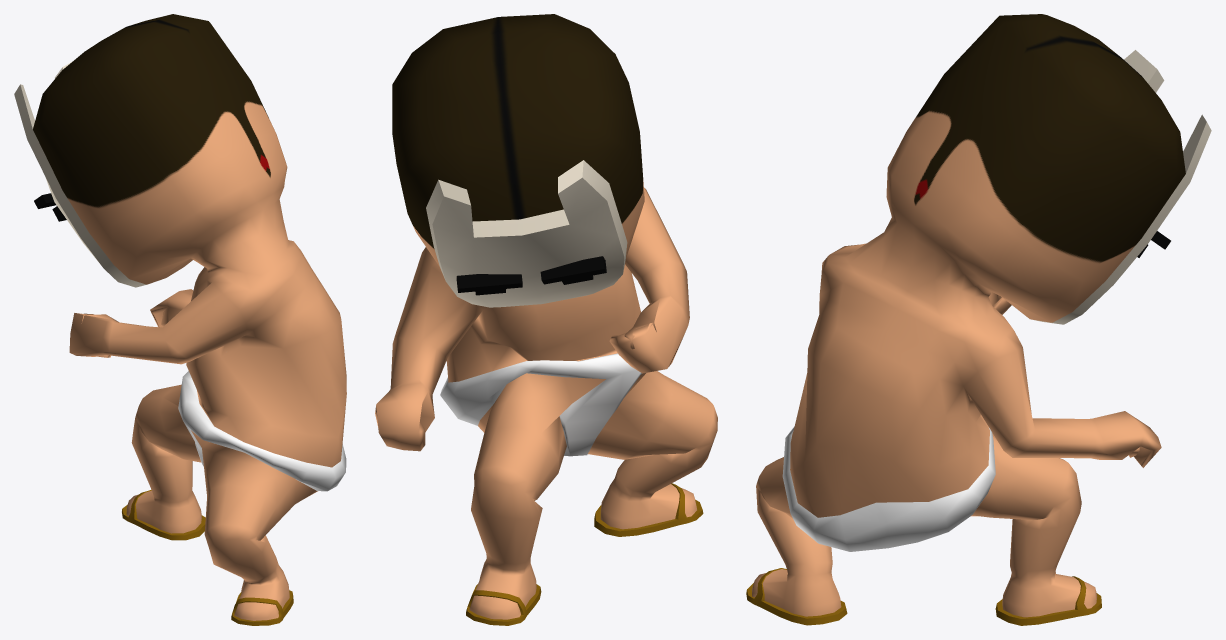
File: L_Sumo_Smash.fbx
The picture shows the model from 3 angles, left to right: view 1: azimuth 30°, elevation 25°; view 2: azimuth 150°, elevation 25°; view 3: azimuth 270°, elevation 25°; orthographic projection. The views are drawn at different scales.
Visible parts, largest first — view 1: Sumo_Base9; view 2: Sumo_Base9; view 3: Sumo_Base9.
Boxes of the visible parts, box(x1,y1,x2,y2) form: Sumo_Base9: box(14, 14, 346, 625); Sumo_Base9: box(375, 14, 717, 625); Sumo_Base9: box(746, 14, 1211, 625).
Bounding box in the file's own units: 1.12 × 2.4 × 1.75.
Materials: 1 (1 with a texture image).
